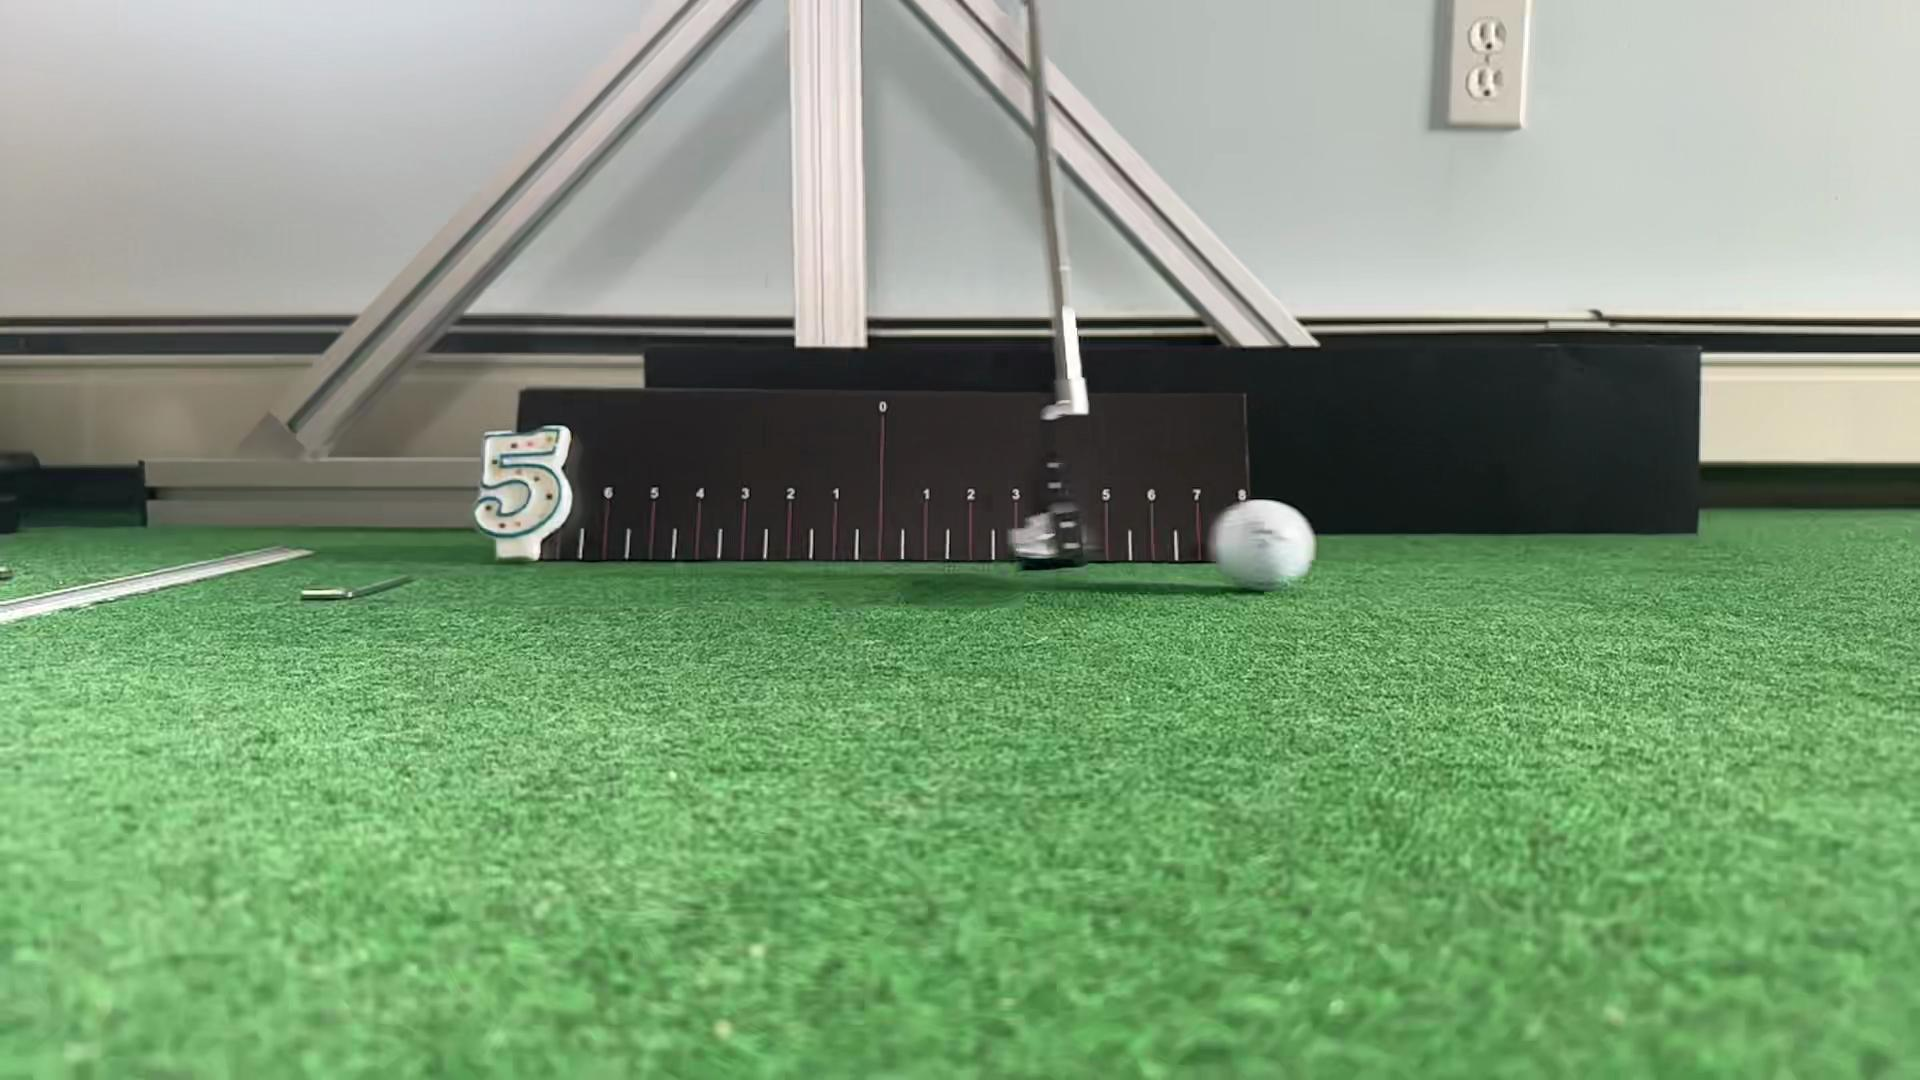golfball: (1213, 501, 1316, 592)
